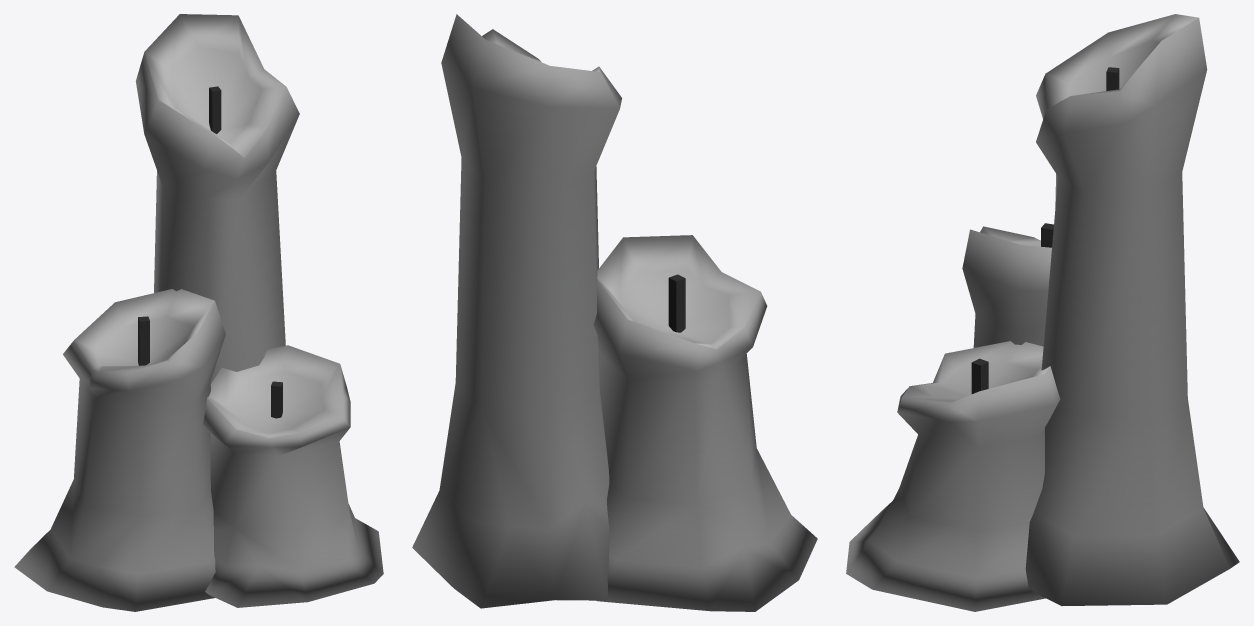
Rendered from SRCandle.fbx.
3 views of the same model, side by side, from view 1: azimuth 30°, elevation 25°; view 2: azimuth 150°, elevation 25°; view 3: azimuth 270°, elevation 25° (orthographic). The views are drawn at different scales.
Visible parts, largest first — view 1: Candles; view 2: Candles; view 3: Candles.
Boxes of the visible parts, x1=… form: Candles: x1=14, y1=14, x2=383, y2=611; Candles: x1=412, y1=14, x2=817, y2=611; Candles: x1=846, y1=14, x2=1239, y2=611.
Size of the model in its own units: 0.3488 by 0.5283 by 0.3416.
